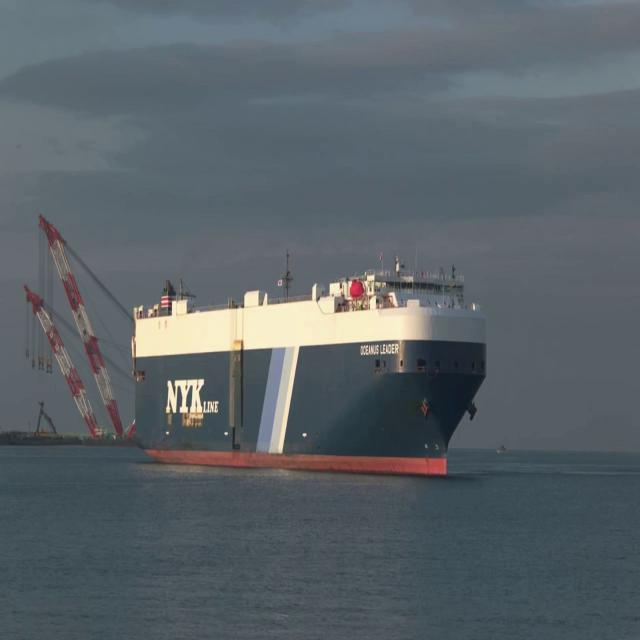OCR: (165, 371, 223, 422), (359, 341, 398, 363)
